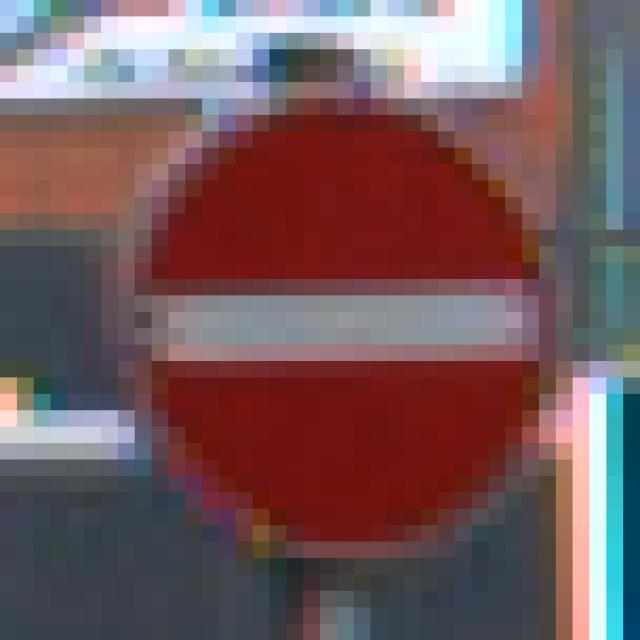No Entry: (102, 83, 540, 559)
